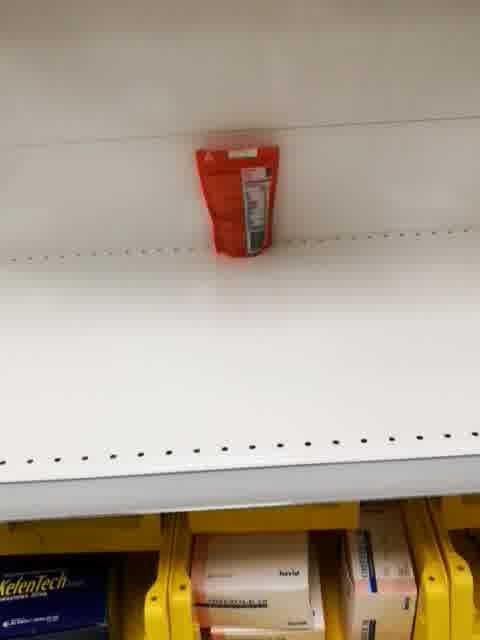whitechia: (192, 142, 281, 261)
